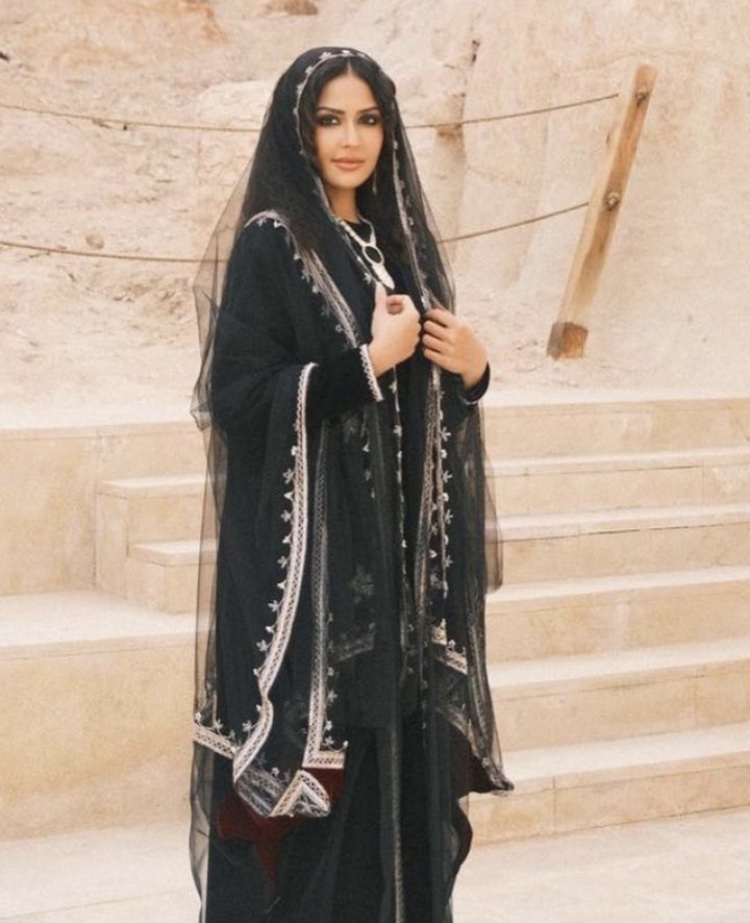Saudi_Founding_Day: (188, 46, 518, 923)
